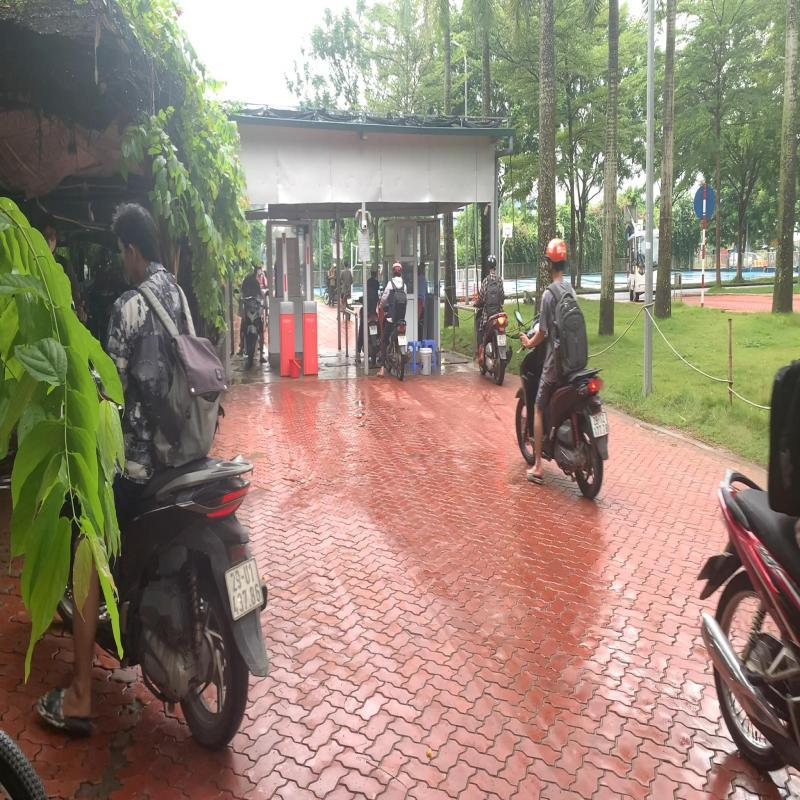nohelmet: (107, 192, 173, 290)
